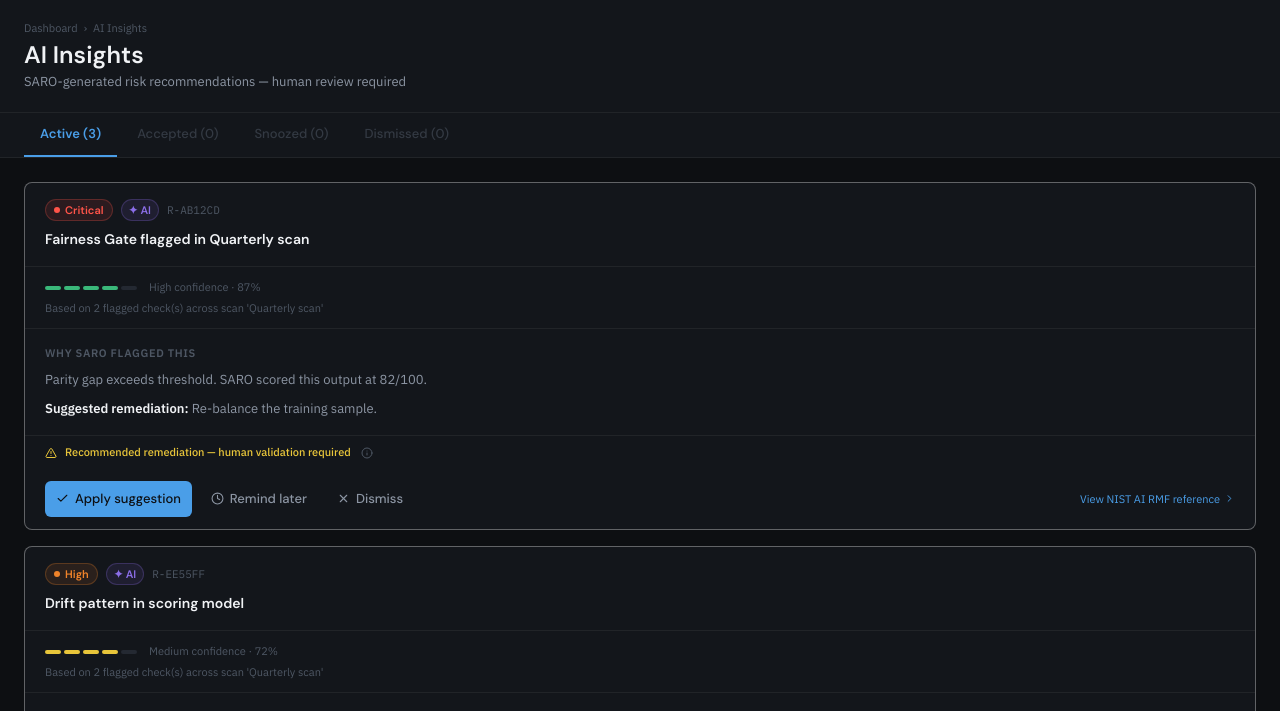
Test: STORY-004 — human validation framing › AC-3: applying opens a confirmation restating the requirement (test_apply_confirmation_shows_disclaimer)
Check: the heading "Fairness Gate flagged in Quarterly scan" is shown, box [45,230,309,248]
Click the button "Apply suggestion": x=118, y=499 [45,481,192,517]
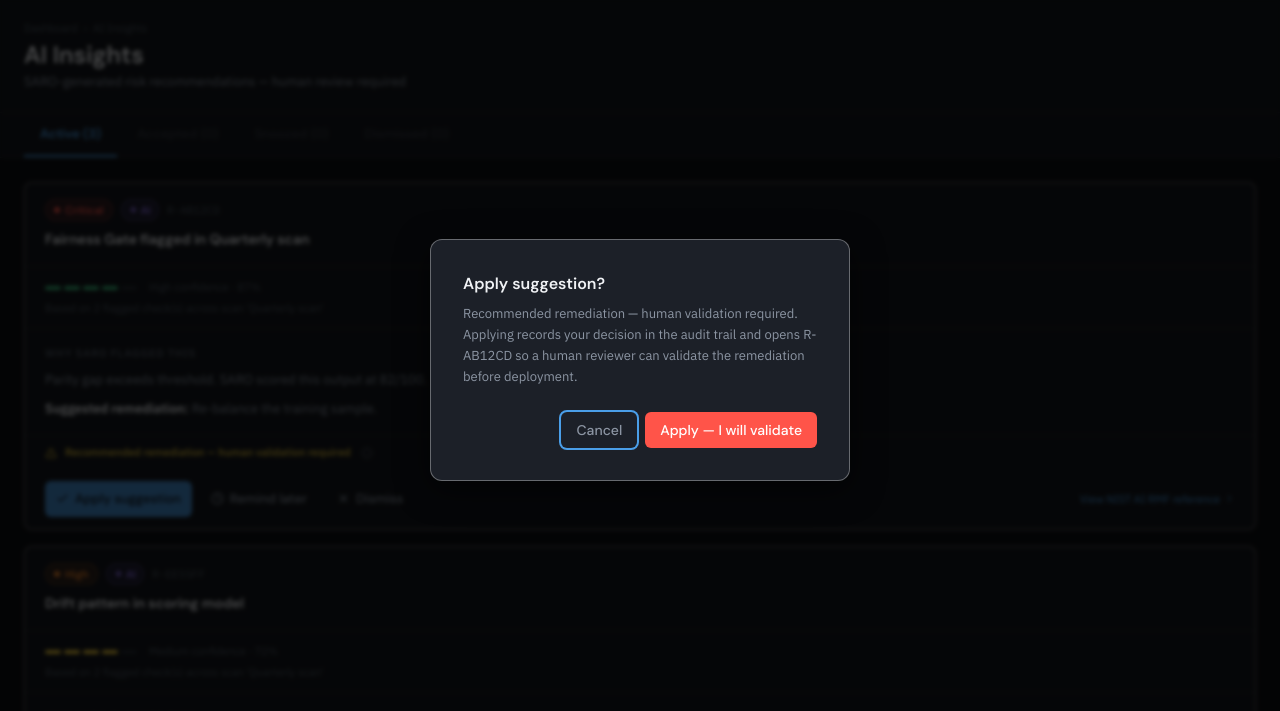
Check: the dialog shows "Recommended remediation — human validation required", box [463,305,816,385]
